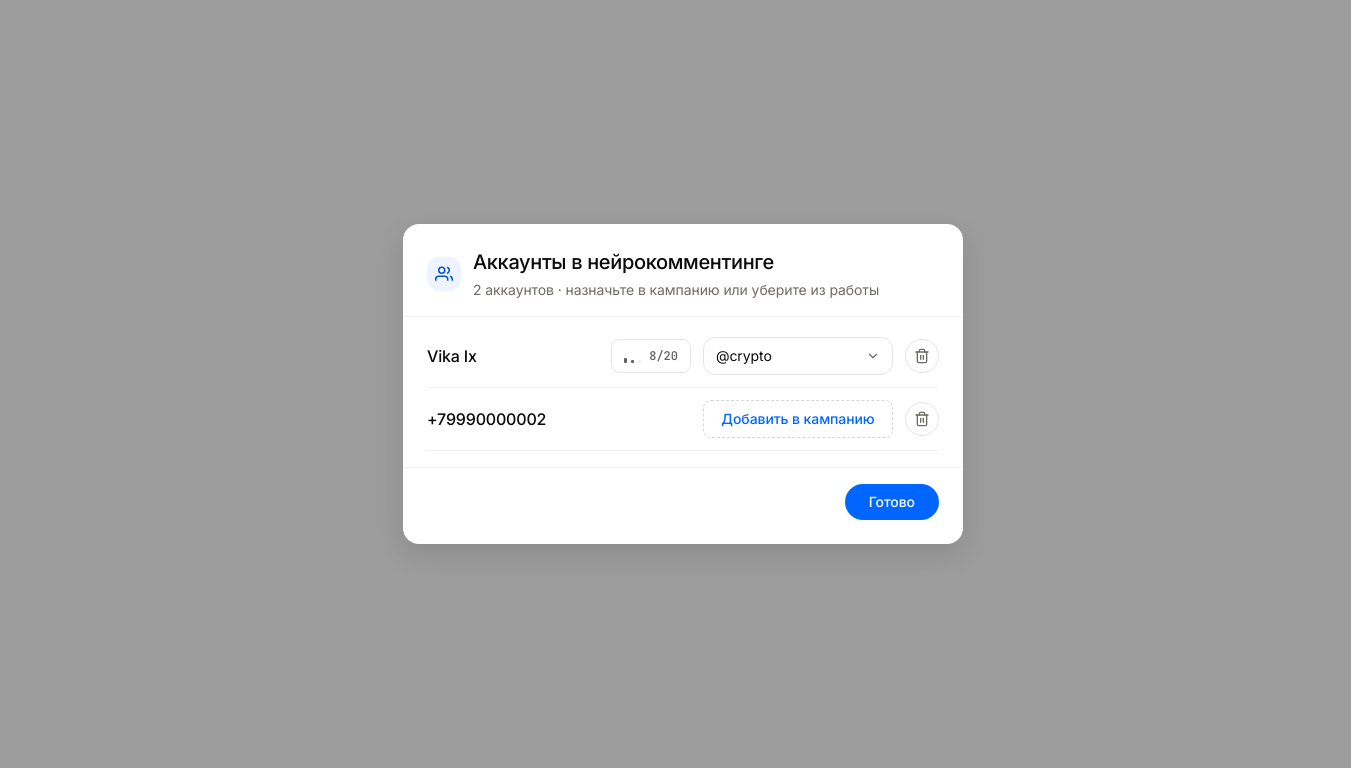
the limits chip reports the tightest cap and opens the limits modal
The width and height of the screenshot is (1366, 768).
Click the button titled "Лимиты" at (651, 356), box [611,339,691,373]
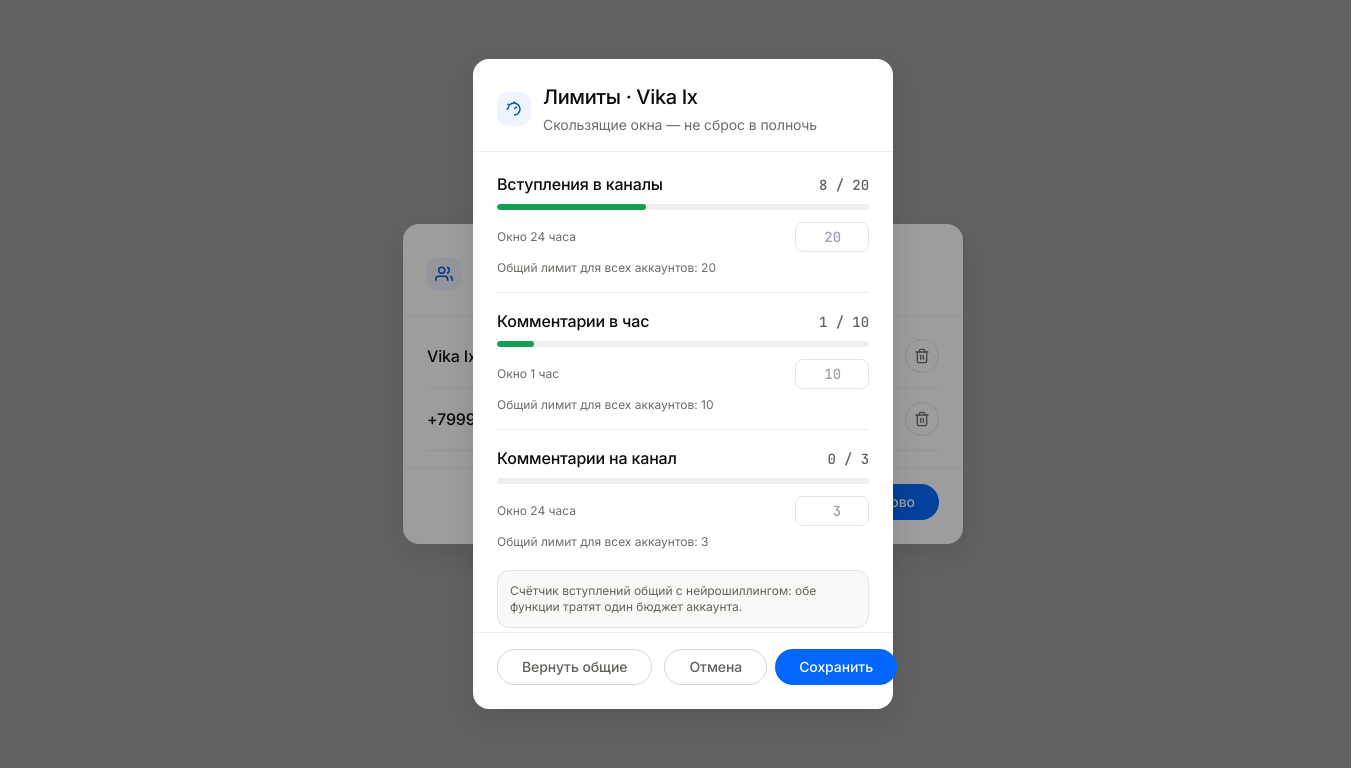
Check: the heading "Лимиты · Vika Ix" is shown, box [543,85,698,109]
Check: the number field named "Вступления в каналы" is not empty, box [795,222,869,252]
